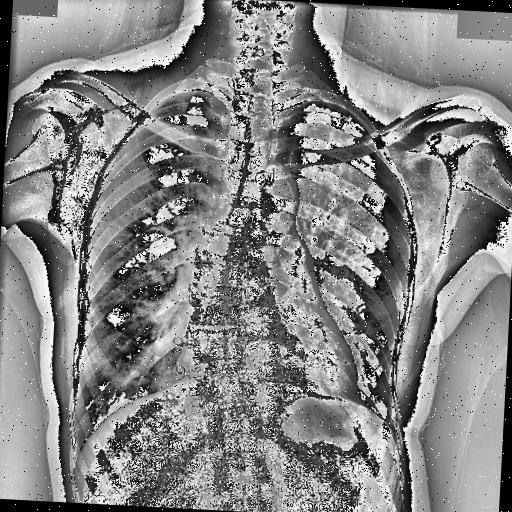11- Pleural thickening: (288, 92, 348, 115)
3- Cardiomegaly: (180, 312, 367, 403)
9- Other lesion: (170, 191, 279, 442), (174, 182, 272, 422), (188, 178, 272, 410)
